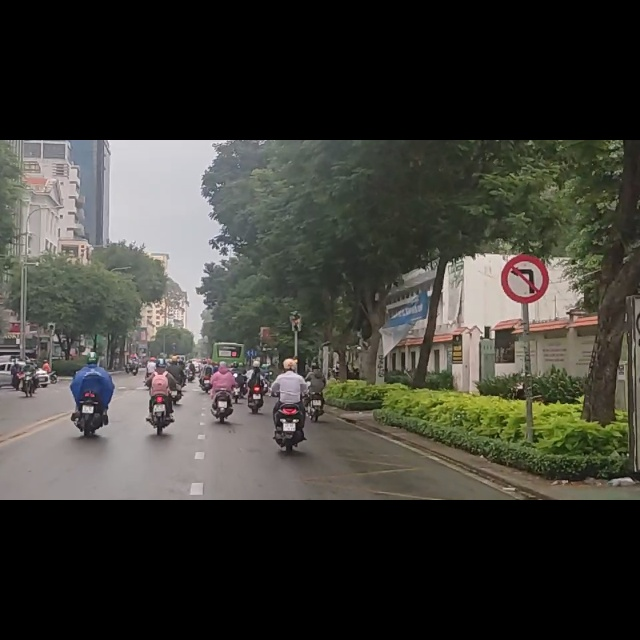bien_cam: (501, 206, 551, 289)
